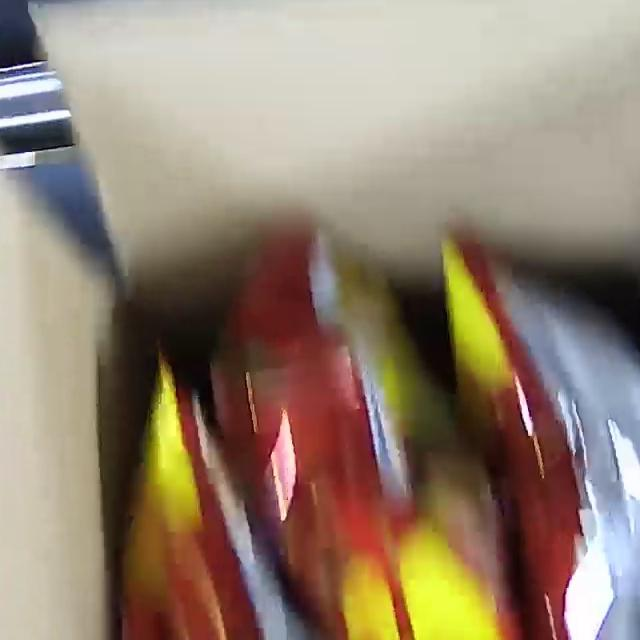masala: (107, 187, 640, 640)
